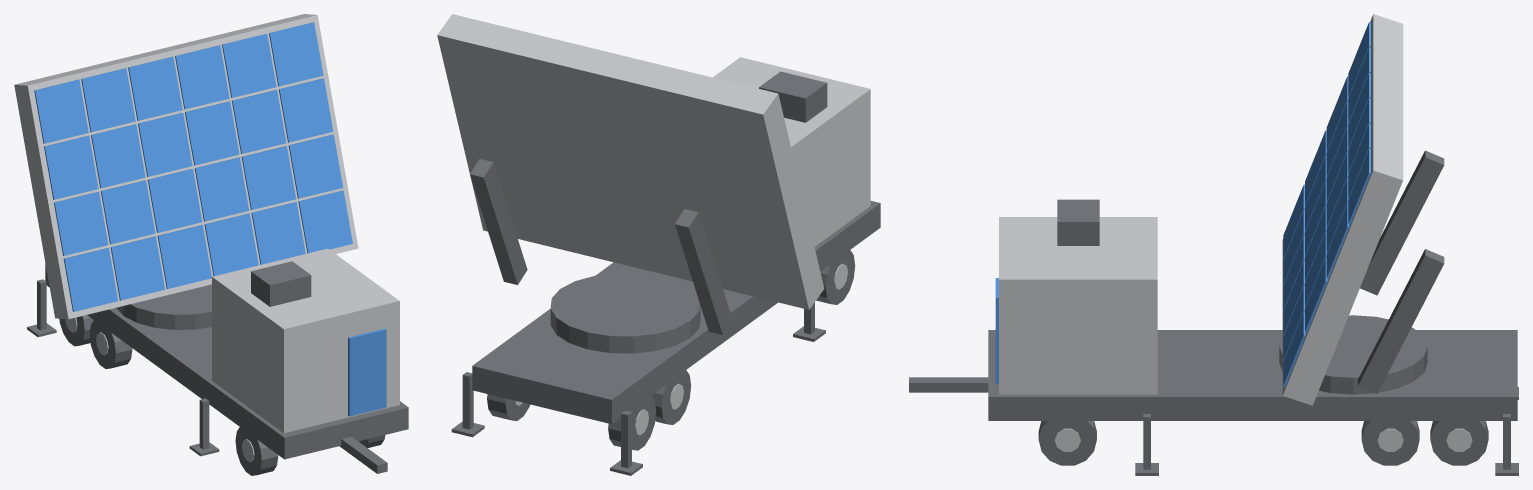
The model's file is Radar_Array_01.fbx.
The picture shows the model from 3 angles, left to right: view 1: azimuth 30°, elevation 25°; view 2: azimuth 150°, elevation 25°; view 3: azimuth 270°, elevation 25°; orthographic projection. The views are drawn at different scales.
Parts seen in each view (by area): view 1: Radar_Array_01_Array_Accent, Radar_Array_01_Structure, Radar_Array_01_Trim, Radar_Array_01_Array_Structure, Radar_Array_01_Accent, Radar_Array_01_Array_Trim; view 2: Radar_Array_01_Array_Structure, Radar_Array_01_Trim, Radar_Array_01_Array_Trim, Radar_Array_01_Structure; view 3: Radar_Array_01_Trim, Radar_Array_01_Structure, Radar_Array_01_Array_Accent, Radar_Array_01_Array_Structure, Radar_Array_01_Array_Trim.
Boxes of the visible parts, x1,y1,x2,y2 form: Radar_Array_01_Array_Accent: [34, 22, 352, 311]; Radar_Array_01_Structure: [65, 248, 399, 462]; Radar_Array_01_Trim: [27, 261, 408, 475]; Radar_Array_01_Array_Structure: [14, 14, 358, 319]; Radar_Array_01_Accent: [348, 328, 386, 416]; Radar_Array_01_Array_Trim: [116, 284, 211, 329]; Radar_Array_01_Array_Structure: [437, 14, 824, 309]; Radar_Array_01_Trim: [451, 71, 880, 475]; Radar_Array_01_Array_Trim: [470, 159, 732, 353]; Radar_Array_01_Structure: [514, 57, 870, 435]; Radar_Array_01_Trim: [909, 199, 1518, 475]; Radar_Array_01_Structure: [999, 217, 1472, 451]; Radar_Array_01_Array_Accent: [1283, 22, 1370, 386]; Radar_Array_01_Array_Structure: [1282, 14, 1403, 405]; Radar_Array_01_Array_Trim: [1279, 150, 1444, 394].
Bounding box in the file's own units: 7 × 7.1 × 11.53.
